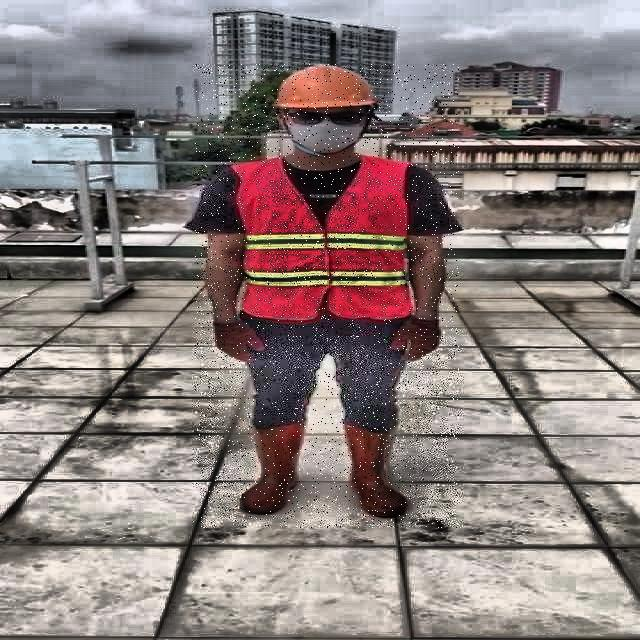safety_helmet: (274, 63, 378, 111)
safety_jacket: (228, 158, 410, 319)
